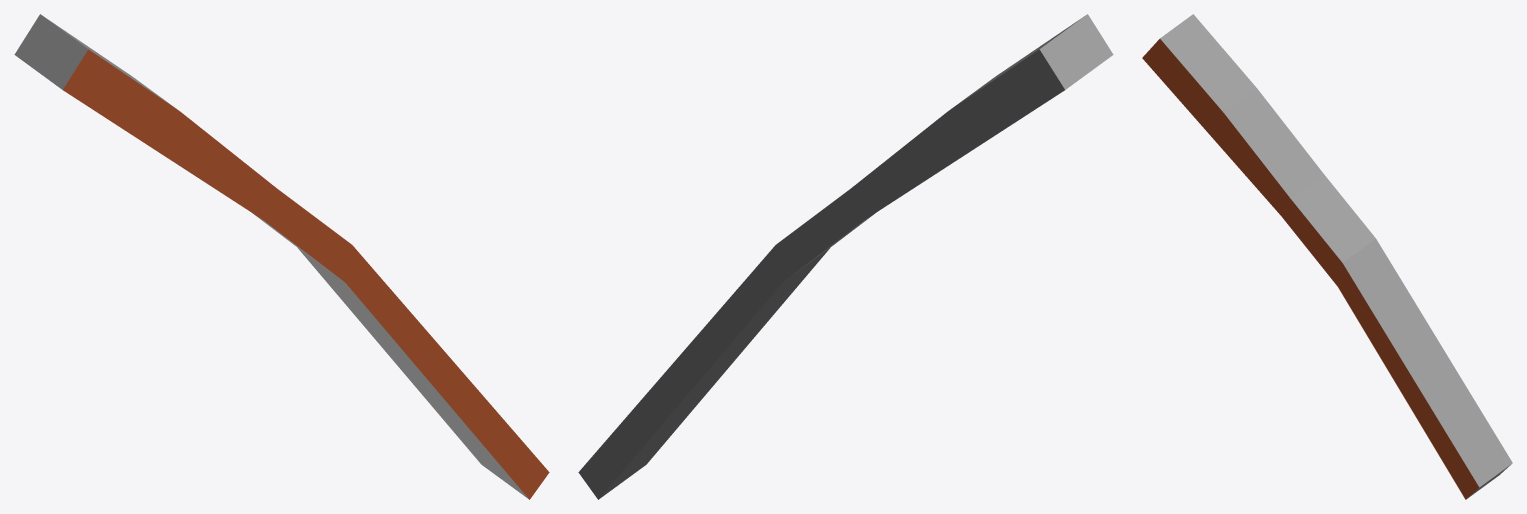
Rendered from construction_0005_assumed_A_Cais_de_acesso_ferroviario_h6m.obj.
3 renders of one model, left to right at view 1: azimuth 30°, elevation 25°; view 2: azimuth 150°, elevation 25°; view 3: azimuth 330°, elevation 25°, orthographic. The views are drawn at different scales.
Visible parts, largest first — view 1: construction_0005_assumed_A_Cais_de_acesso_ferroviario; view 2: construction_0005_assumed_A_Cais_de_acesso_ferroviario; view 3: construction_0005_assumed_A_Cais_de_acesso_ferroviario.
Part boxes in pixels (x1,y1,x2,y2): construction_0005_assumed_A_Cais_de_acesso_ferroviario: (14, 14, 549, 499); construction_0005_assumed_A_Cais_de_acesso_ferroviario: (578, 14, 1113, 499); construction_0005_assumed_A_Cais_de_acesso_ferroviario: (1142, 14, 1512, 499).
Size of the model in its own units: 34.94 by 38.29 by 6.
